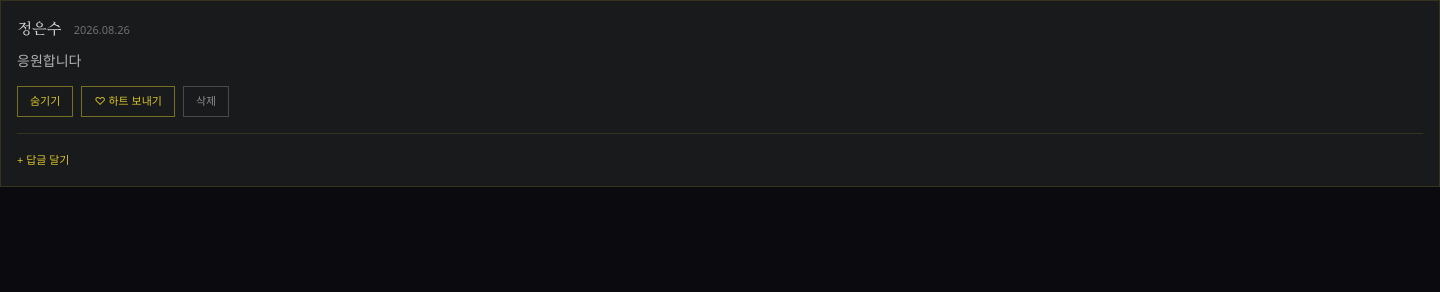
Test: GuestbookAdmin › keeps the reply box closed until asked — 43개 글마다 펼쳐져 있으면 검토가 안 된다
Expected: the field with placeholder "응원에 답하는 한 마디" is not shown
Click the button "+ 답글 달기" at [43, 160], box [17,152,70,168]
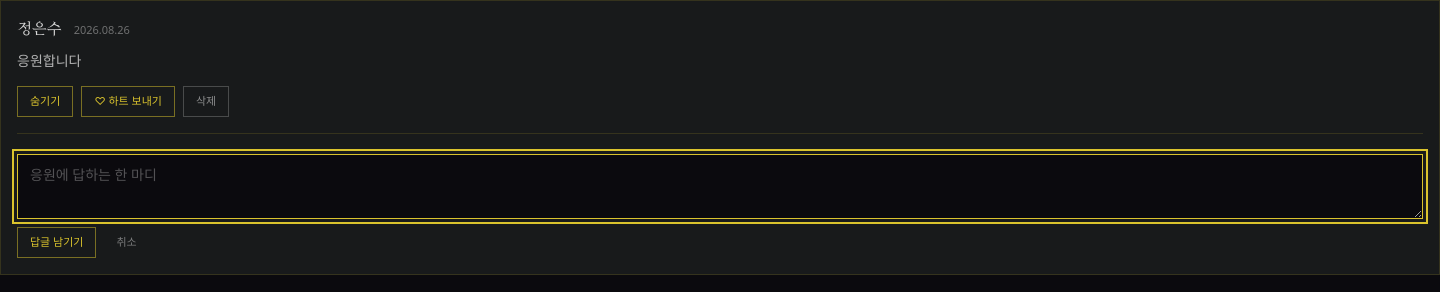
Expected: the text box with placeholder "응원에 답하는 한 마디" is shown, [17,154,1423,219]
